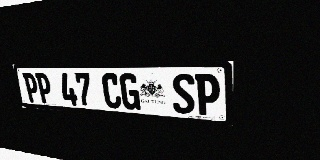4: (59, 73, 78, 106)
7: (74, 73, 94, 107)
C: (101, 73, 122, 109)
G: (119, 73, 141, 110)
P: (195, 74, 220, 116), (35, 73, 53, 104), (22, 73, 40, 103)
S: (171, 74, 195, 115)
